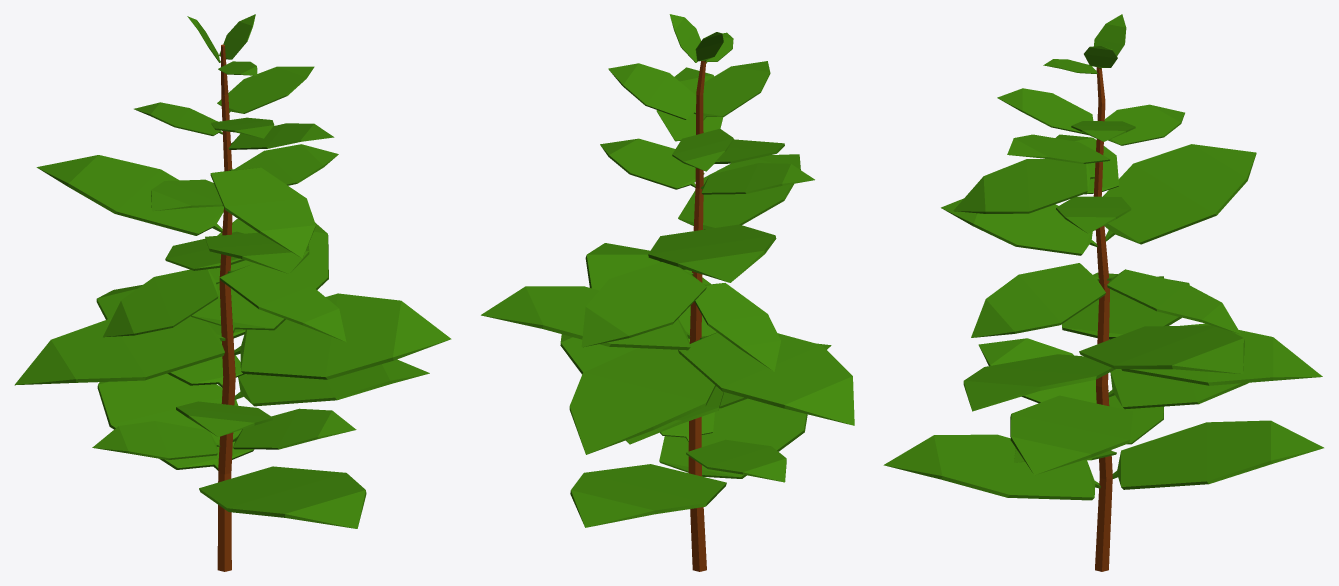
File: Plant_g_03.fbx
3 views of the same model, side by side, from view 1: azimuth 30°, elevation 25°; view 2: azimuth 150°, elevation 25°; view 3: azimuth 270°, elevation 25° (orthographic).
Visible parts, largest first — view 1: Plant_g_03_LOD0; view 2: Plant_g_03_LOD0; view 3: Plant_g_03_LOD0.
Boxes of the visible parts, x1,y1,x2,y2 form: Plant_g_03_LOD0: [14, 14, 451, 571]; Plant_g_03_LOD0: [481, 14, 854, 571]; Plant_g_03_LOD0: [883, 14, 1323, 571].
Size of what is drawn, in the model's own units: 20.18 by 30.03 by 22.19.
